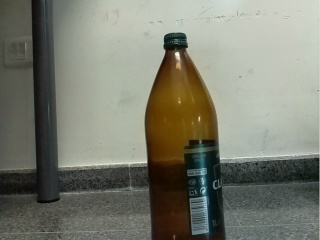pote cristal: (144, 32, 226, 240)
